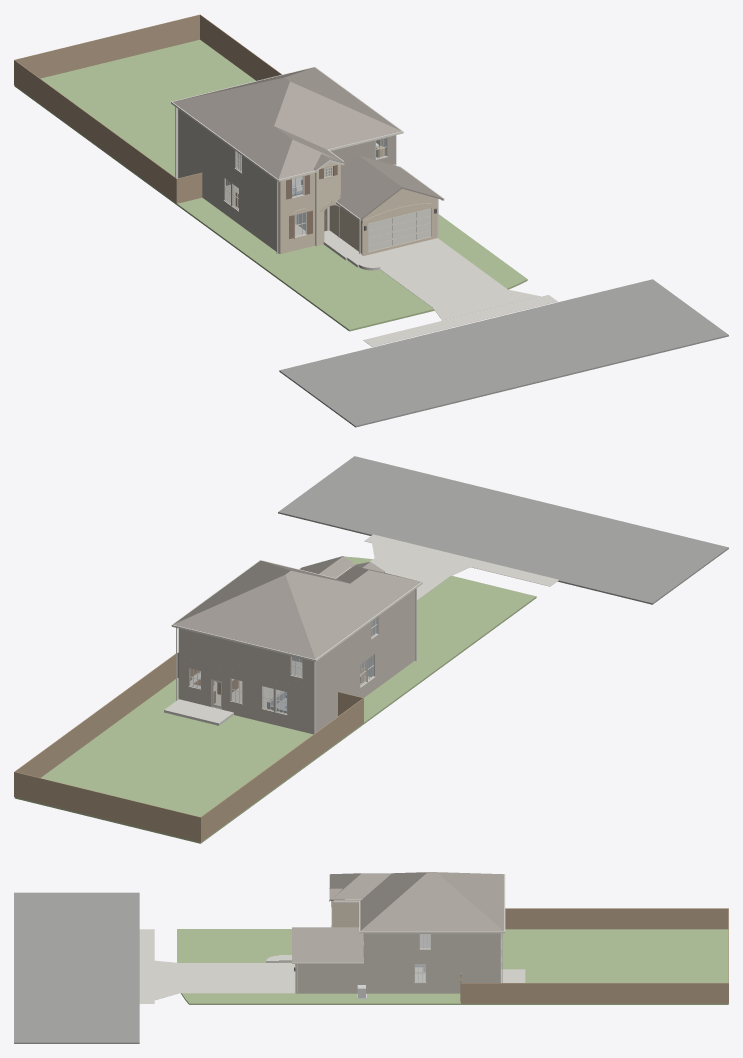
The model's file is house.glb.
The picture shows the model from 3 angles, top to bottom: view 1: azimuth 30°, elevation 25°; view 2: azimuth 150°, elevation 25°; view 3: azimuth 270°, elevation 25°; orthographic projection. The views are drawn at different scales.
Parts seen in each view (by area): view 1: Site|Street, Site|Lawn, Roof|Main Roof, Site|Wood Fence (approx.), Site|Driveway, Exterior|Cladding siding, Roof|Garage Gable Roof, Exterior|Cladding siding|5, Site|Public Sidewalk, Floor 1|Garage Door Panels, Exterior|Cladding brick|5, Roof|Gutters (+7 smaller); view 2: Site|Street, Site|Lawn, Roof|Main Roof, Site|Wood Fence (approx.), Exterior|Cladding siding|4, Exterior|Cladding siding, Exterior|Cladding siding|7, Exterior|Cladding siding|5, Site|Driveway, Site|Public Sidewalk, Roof|Gutters, Site|Rear Patio (survey: covered conc. porch) (+1 smaller); view 3: Site|Lawn, Site|Street, Site|Wood Fence (approx.), Roof|Main Roof, Site|Driveway, Exterior|Cladding siding|3, Exterior|Cladding siding|6, Roof|Garage Gable Roof, Exterior|Cladding siding|2, Site|Public Sidewalk, Roof|Gutters, Exterior|Cladding brick|7 (+1 smaller).
Boxes of the visible parts, bbox=[...] form: Site|Street: bbox=[279, 279, 728, 427]; Site|Lawn: bbox=[14, 39, 527, 331]; Roof|Main Roof: bbox=[173, 67, 401, 179]; Site|Wood Fence (approx.): bbox=[14, 14, 281, 203]; Site|Driveway: bbox=[363, 238, 540, 320]; Exterior|Cladding siding: bbox=[178, 136, 279, 253]; Roof|Garage Gable Roof: bbox=[336, 155, 443, 219]; Exterior|Cladding siding|5: bbox=[178, 109, 279, 209]; Site|Public Sidewalk: bbox=[363, 295, 557, 346]; Floor 1|Garage Door Panels: bbox=[368, 209, 430, 250]; Exterior|Cladding brick|5: bbox=[362, 197, 437, 255]; Roof|Gutters: bbox=[171, 66, 444, 220]; Site|Street: bbox=[278, 456, 728, 604]; Site|Lawn: bbox=[14, 556, 536, 843]; Roof|Main Roof: bbox=[173, 560, 421, 659]; Site|Wood Fence (approx.): bbox=[14, 652, 363, 842]; Exterior|Cladding siding|4: bbox=[179, 657, 313, 734]; Exterior|Cladding siding: bbox=[315, 616, 415, 732]; Exterior|Cladding siding|7: bbox=[179, 628, 313, 689]; Exterior|Cladding siding|5: bbox=[315, 589, 415, 688]; Site|Driveway: bbox=[369, 542, 470, 600]; Site|Public Sidewalk: bbox=[364, 534, 558, 586]; Roof|Gutters: bbox=[171, 560, 422, 661]; Site|Rear Patio (survey: covered conc. porch): bbox=[164, 699, 233, 725]; Site|Lawn: bbox=[177, 929, 728, 1004]; Site|Street: bbox=[14, 892, 139, 1043]; Site|Wood Fence (approx.): bbox=[461, 908, 728, 1003]; Roof|Main Roof: bbox=[329, 872, 504, 931]; Site|Driveway: bbox=[154, 960, 295, 1000]; Exterior|Cladding siding|3: bbox=[364, 957, 500, 993]; Exterior|Cladding siding|6: bbox=[364, 933, 500, 957]; Roof|Garage Gable Roof: bbox=[292, 927, 363, 961]; Exterior|Cladding siding|2: bbox=[295, 964, 363, 993]; Site|Public Sidewalk: bbox=[139, 929, 154, 1003]; Roof|Gutters: bbox=[292, 874, 505, 963]; Exterior|Cladding brick|7: bbox=[333, 899, 362, 927].
Bounding box in the file's own units: 28.8 × 8.62 × 58.
